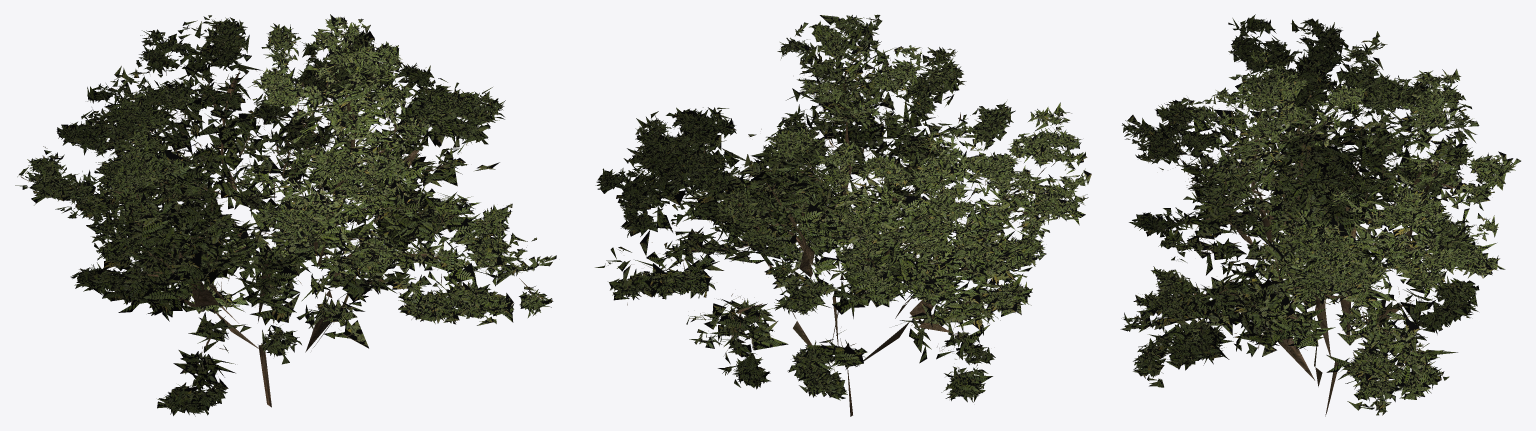
The model's file is jacaranda.glb.
3 views of the same model, side by side, from view 1: azimuth 30°, elevation 25°; view 2: azimuth 150°, elevation 25°; view 3: azimuth 270°, elevation 25° (orthographic). The views are drawn at different scales.
Visible parts, largest first — view 1: leaves, jacaranda_tree_LOD0; view 2: leaves, jacaranda_tree_LOD0; view 3: leaves, jacaranda_tree_LOD0.
Boxes of the visible parts, x1,y1,x2,y2 form: leaves: [15, 14, 556, 416]; jacaranda_tree_LOD0: [20, 30, 545, 407]; leaves: [595, 14, 1091, 402]; jacaranda_tree_LOD0: [608, 20, 1076, 416]; leaves: [1120, 14, 1520, 415]; jacaranda_tree_LOD0: [1139, 25, 1484, 416].
Size of the model in its own units: 24.61 by 19.12 by 18.87.
3 materials, 3 textured.
